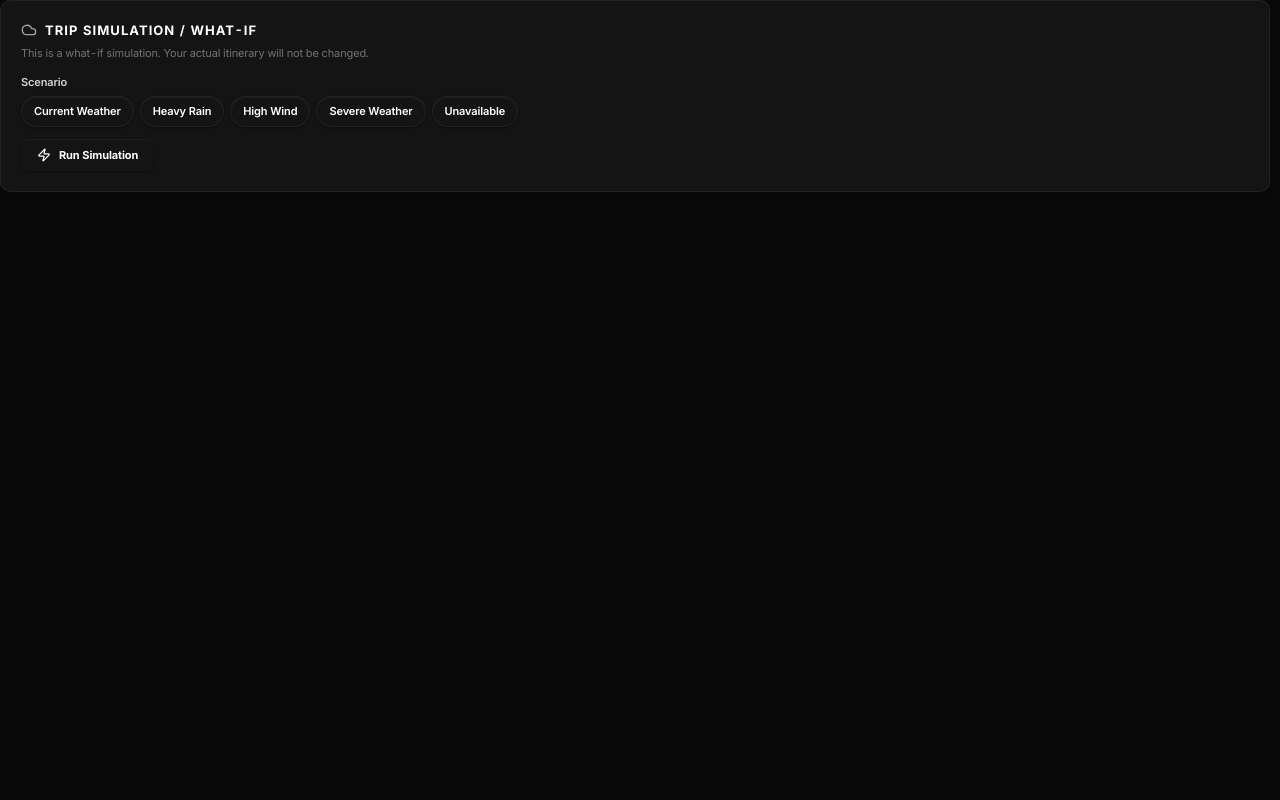
Test: SimulationSection › runs simulation with no scenario override by default
Click the button "Run Simulation": {"x": 88, "y": 155} [21,139,154,171]
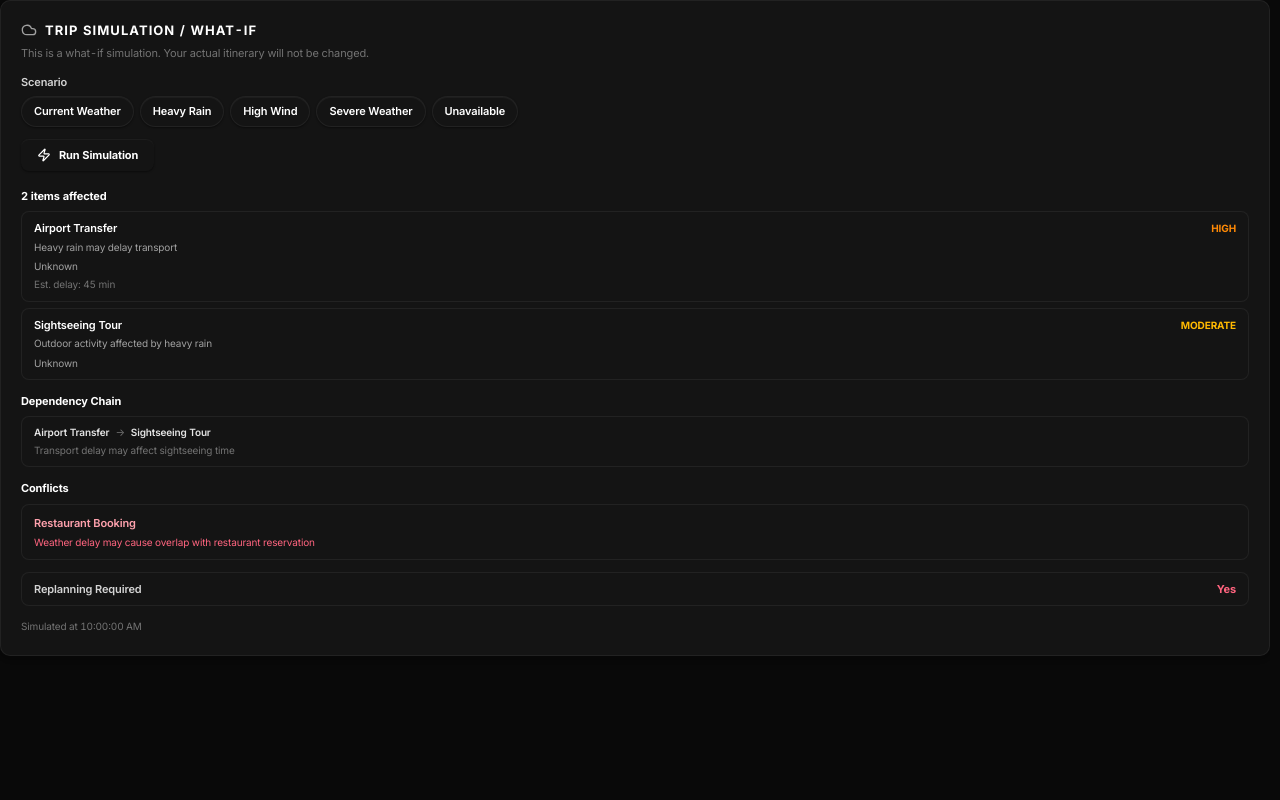
Expected: the text "2 items affected" is shown, [21,189,106,203]
